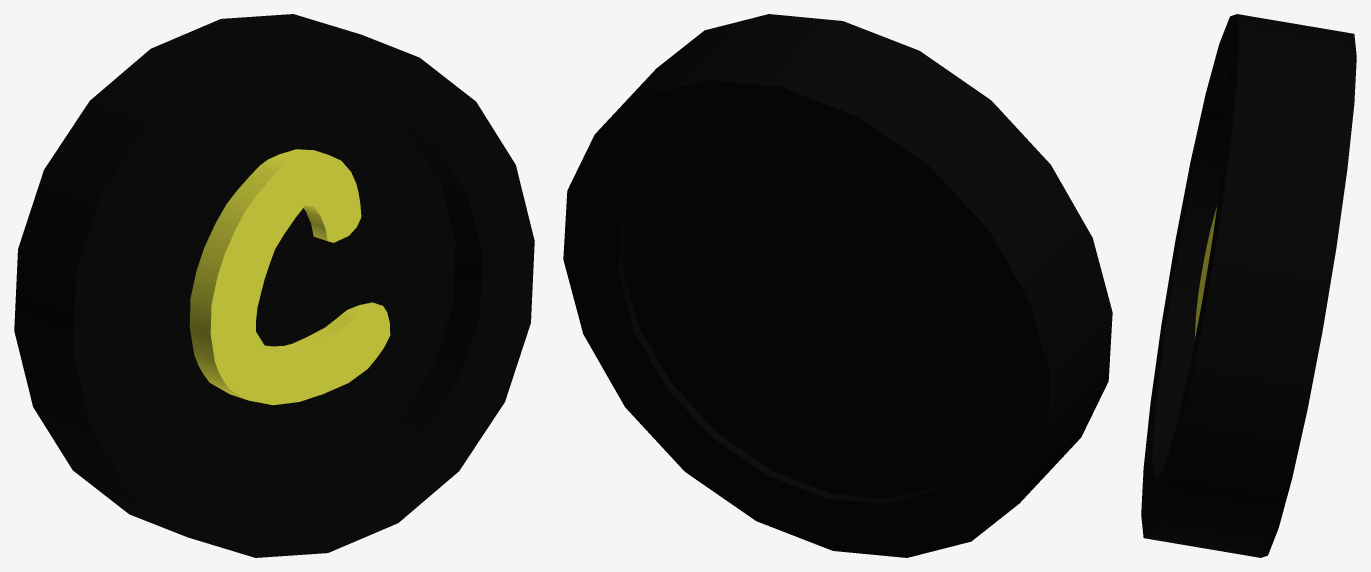
File: coin.fbx
3 renders of one model, left to right at view 1: azimuth 30°, elevation 25°; view 2: azimuth 150°, elevation 25°; view 3: azimuth 270°, elevation 25°, orthographic. The views are drawn at different scales.
Parts seen in each view (by area): view 1: node_id28; view 2: node_id28; view 3: node_id28.
Boxes of the visible parts, <box> form: node_id28: <box>14,14,534,557</box>; node_id28: <box>563,14,1112,557</box>; node_id28: <box>1141,14,1356,557</box>.
Size of the model in its own units: 0.0355 by 0.0364 by 0.0143.
